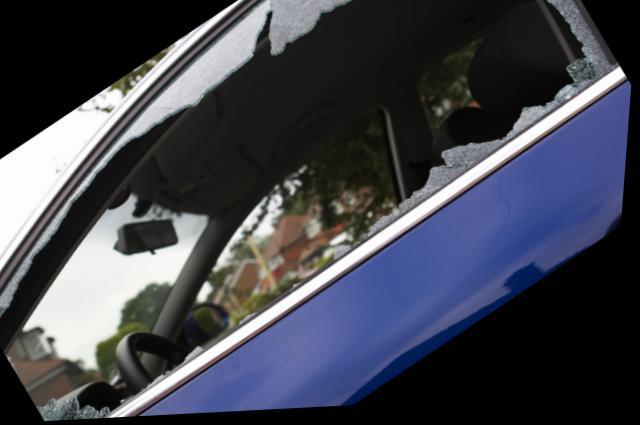glass shatter: (0, 0, 613, 422)
